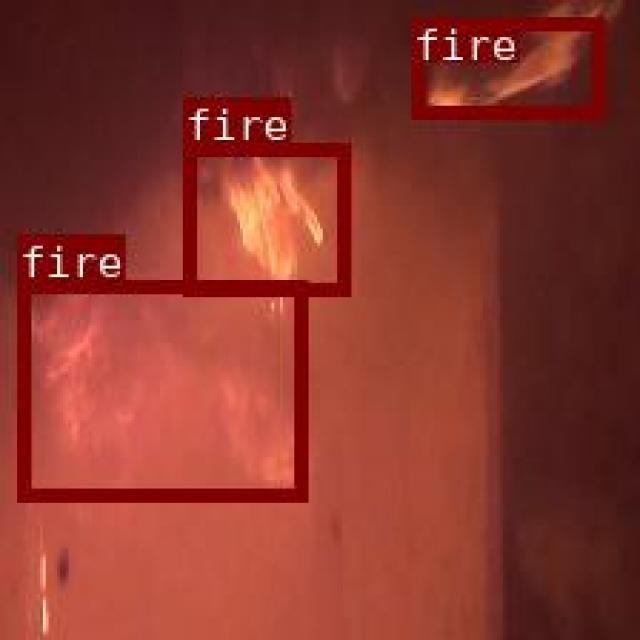fire: (17, 279, 306, 497), (182, 142, 348, 294), (409, 15, 600, 116)
